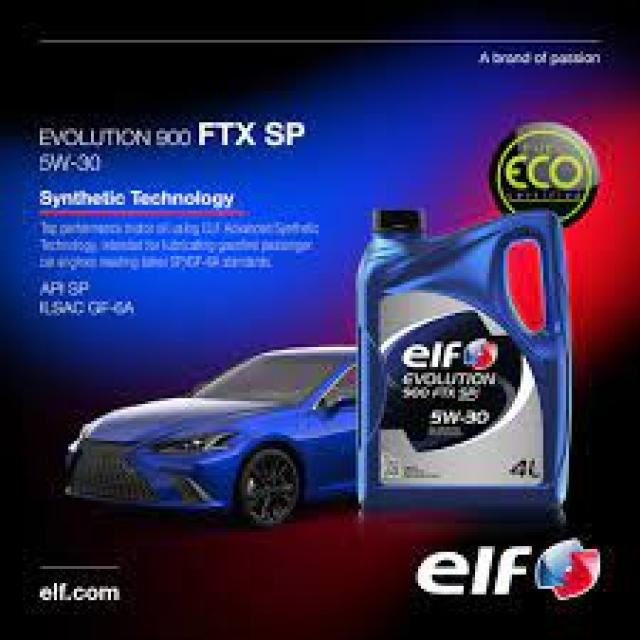motor_oil: (359, 206, 574, 515)
